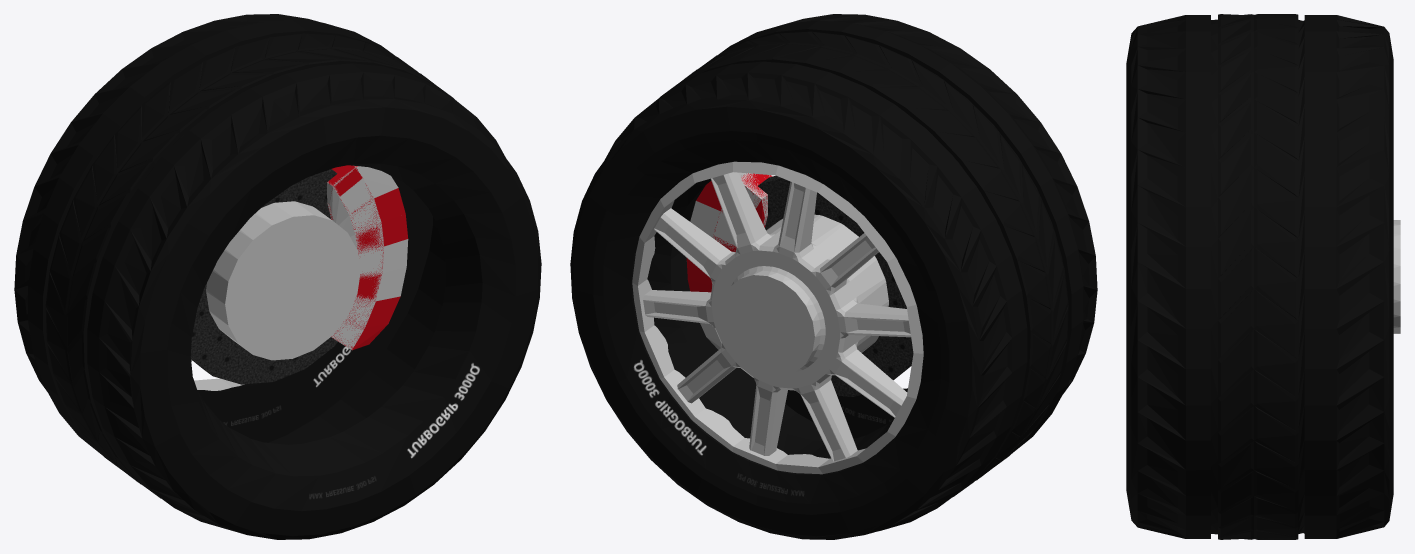
File: tirethick.obj
3 renders of one model, left to right at view 1: azimuth 30°, elevation 25°; view 2: azimuth 150°, elevation 25°; view 3: azimuth 270°, elevation 25°, orthographic. The views are drawn at different scales.
Parts seen in each view (by area): view 1: tire, rim, brake_pad, brake wheel; view 2: tire, rim, outside, brake wheel, brake_pad; view 3: tire, rim.
Boxes of the visible parts, box(x1,y1,x2,y2) form: tire: box(14, 14, 541, 539); rim: box(191, 201, 360, 361); brake_pad: box(327, 165, 408, 350); brake wheel: box(190, 169, 337, 384); tire: box(570, 14, 1097, 539); rim: box(643, 172, 910, 461); outside: box(632, 161, 923, 474); brake wheel: box(758, 175, 913, 396); brake_pad: box(686, 172, 772, 349); tire: box(1126, 14, 1393, 539); rim: box(1393, 220, 1400, 333).
Size of the model in its own units: 264 by 264 by 138.
